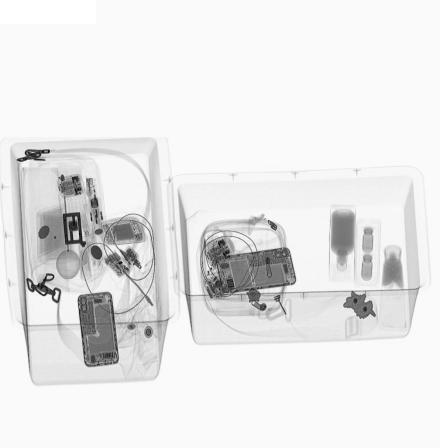Lighter: (85, 178, 99, 213)
